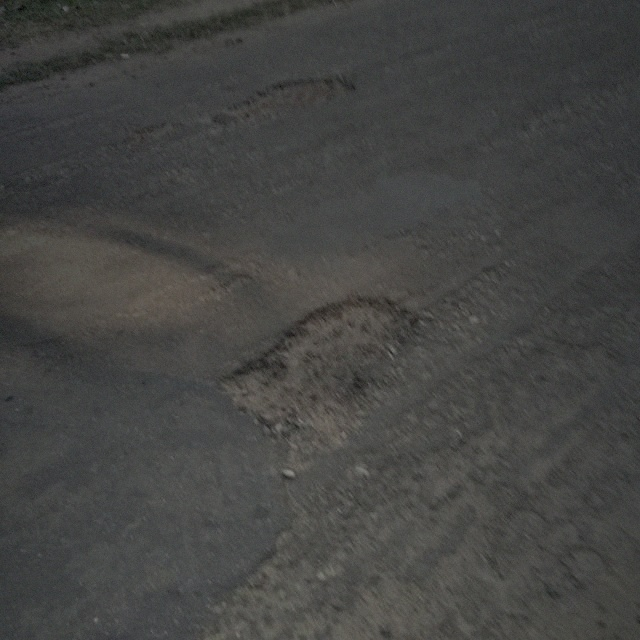pothole: (209, 288, 420, 458), (220, 72, 358, 121)
